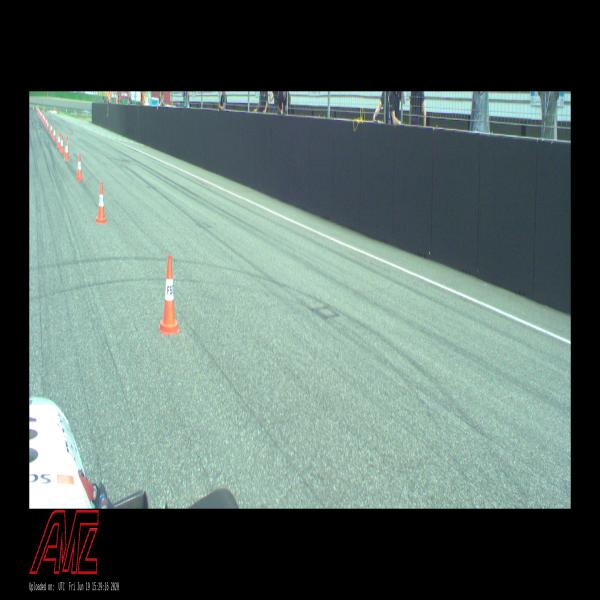orange_cone: (158, 256, 180, 334), (96, 183, 106, 223), (76, 154, 83, 180), (64, 140, 69, 161), (65, 136, 69, 153), (60, 136, 63, 153), (57, 132, 60, 148), (53, 127, 56, 140), (50, 123, 53, 134), (46, 120, 48, 130), (45, 117, 47, 126), (44, 116, 45, 123)
